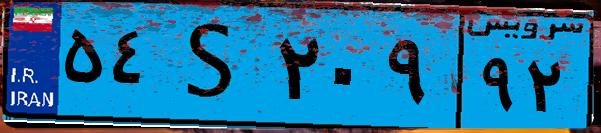0: (330, 28, 385, 110)
2: (270, 28, 330, 110), (525, 38, 570, 115)
4: (110, 28, 158, 98)
5: (57, 26, 110, 100)
9: (385, 28, 445, 110), (475, 38, 525, 113)
S: (158, 12, 270, 120)
